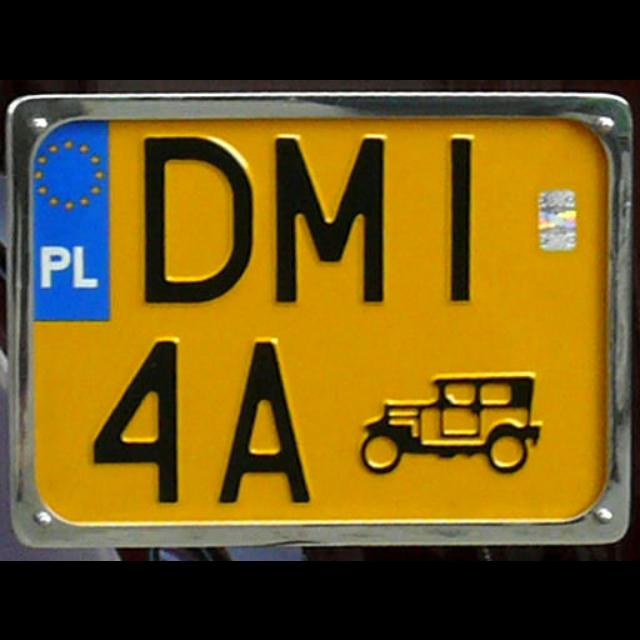pl_license_plate: (27, 111, 618, 523)
